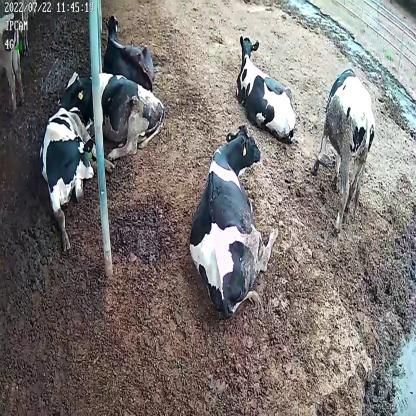cow: (190, 124, 282, 318), (39, 109, 114, 252), (314, 64, 377, 231), (58, 65, 166, 161), (234, 30, 299, 145), (102, 12, 157, 93)
